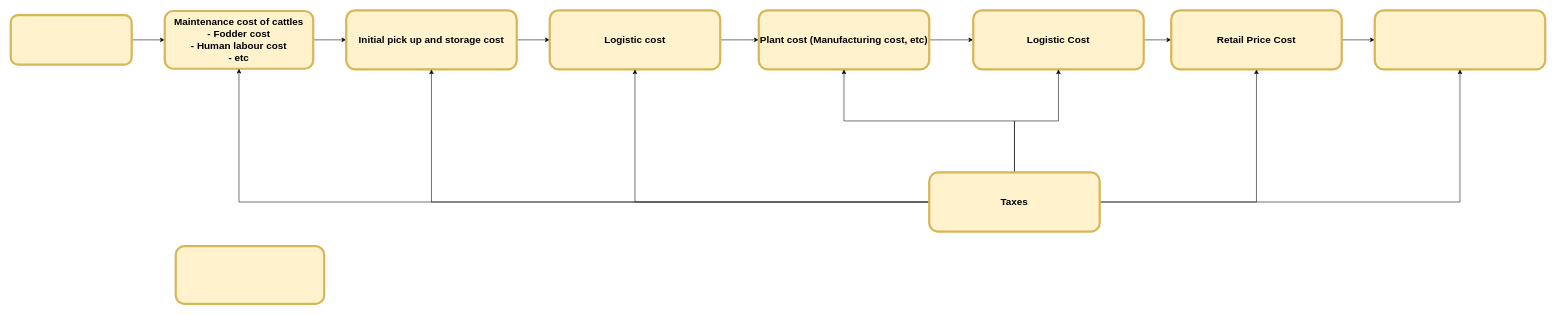
The diagram is 1555 pixels wide and 315 high, and some of its shapes have lost their labels. Here are the shapes that lost their labels. From the top down, the centre of each, then its label:
At point (71, 39): "Initial investment cost".
At point (1459, 39): "Cost To Consumers".
At point (249, 275): "Highly Volatile Variables".
